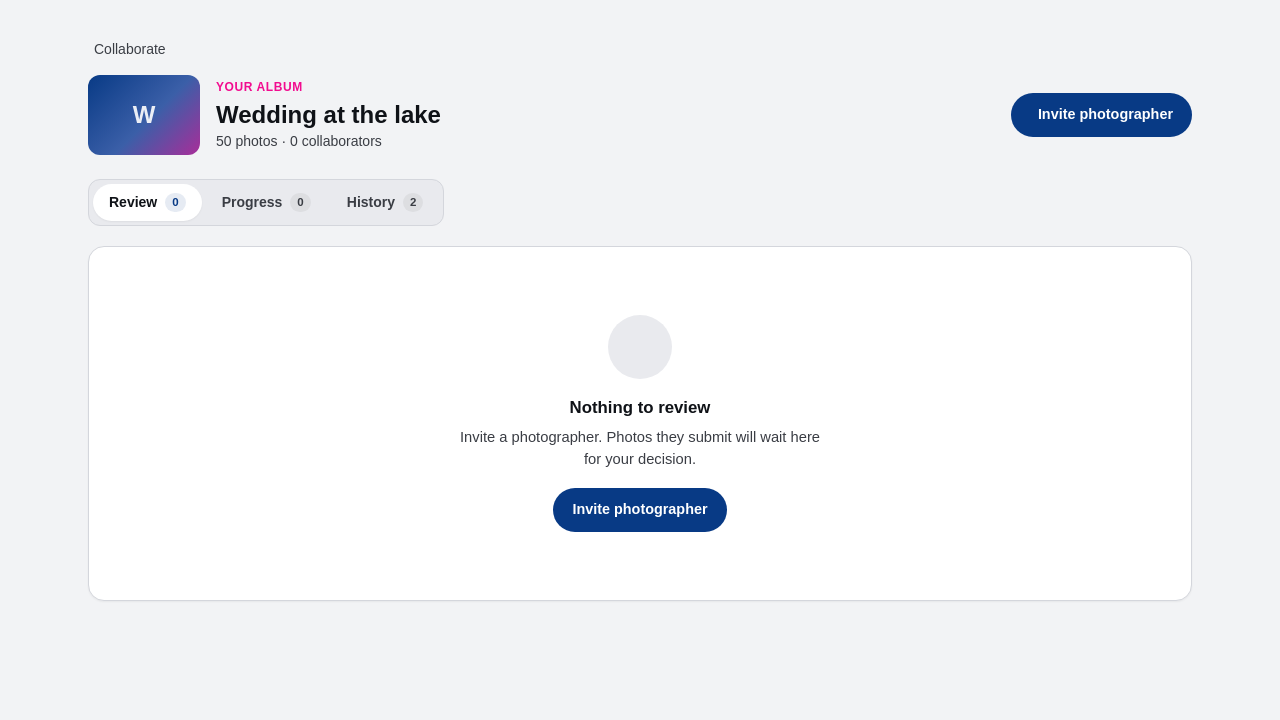
when there is nothing to track yet › still shows the history of people who left when no one is left
This screenshot has width=1280, height=720.
Click the tab "Progress 0" at (266, 202), box [206, 184, 327, 221]
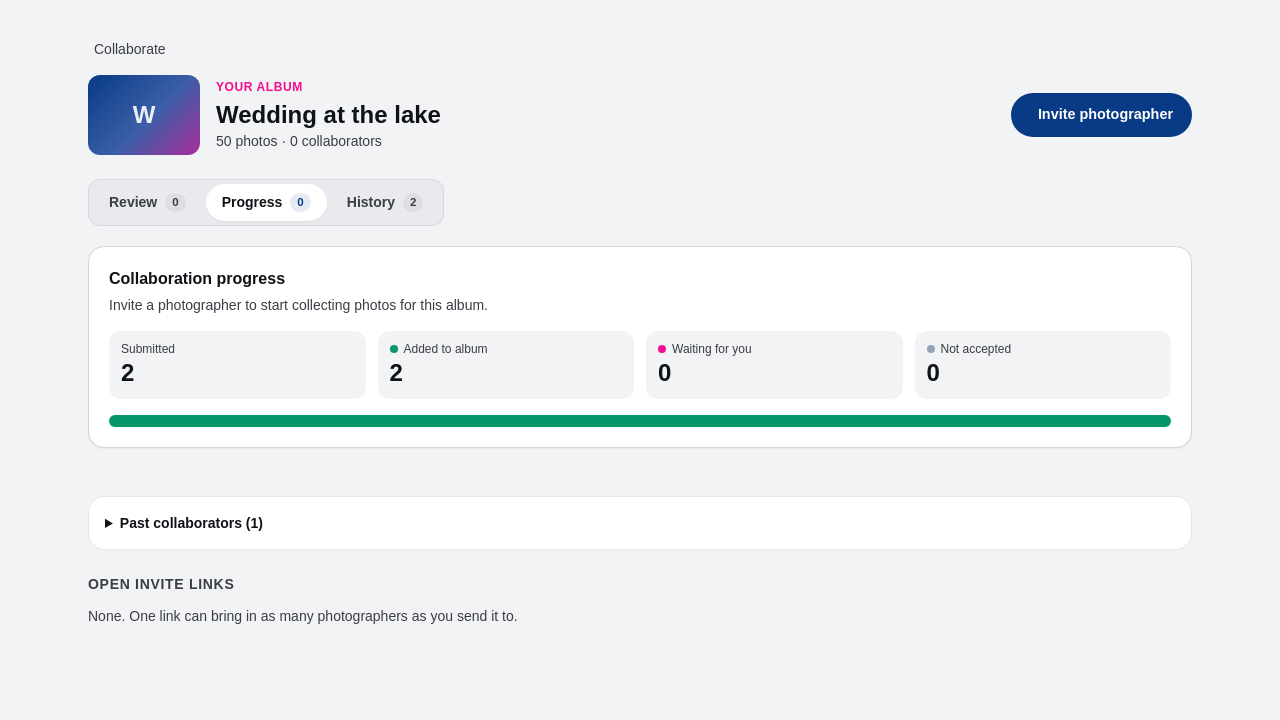
Check: the element with test id "former-contributors" is shown, box [88, 496, 1192, 550]
